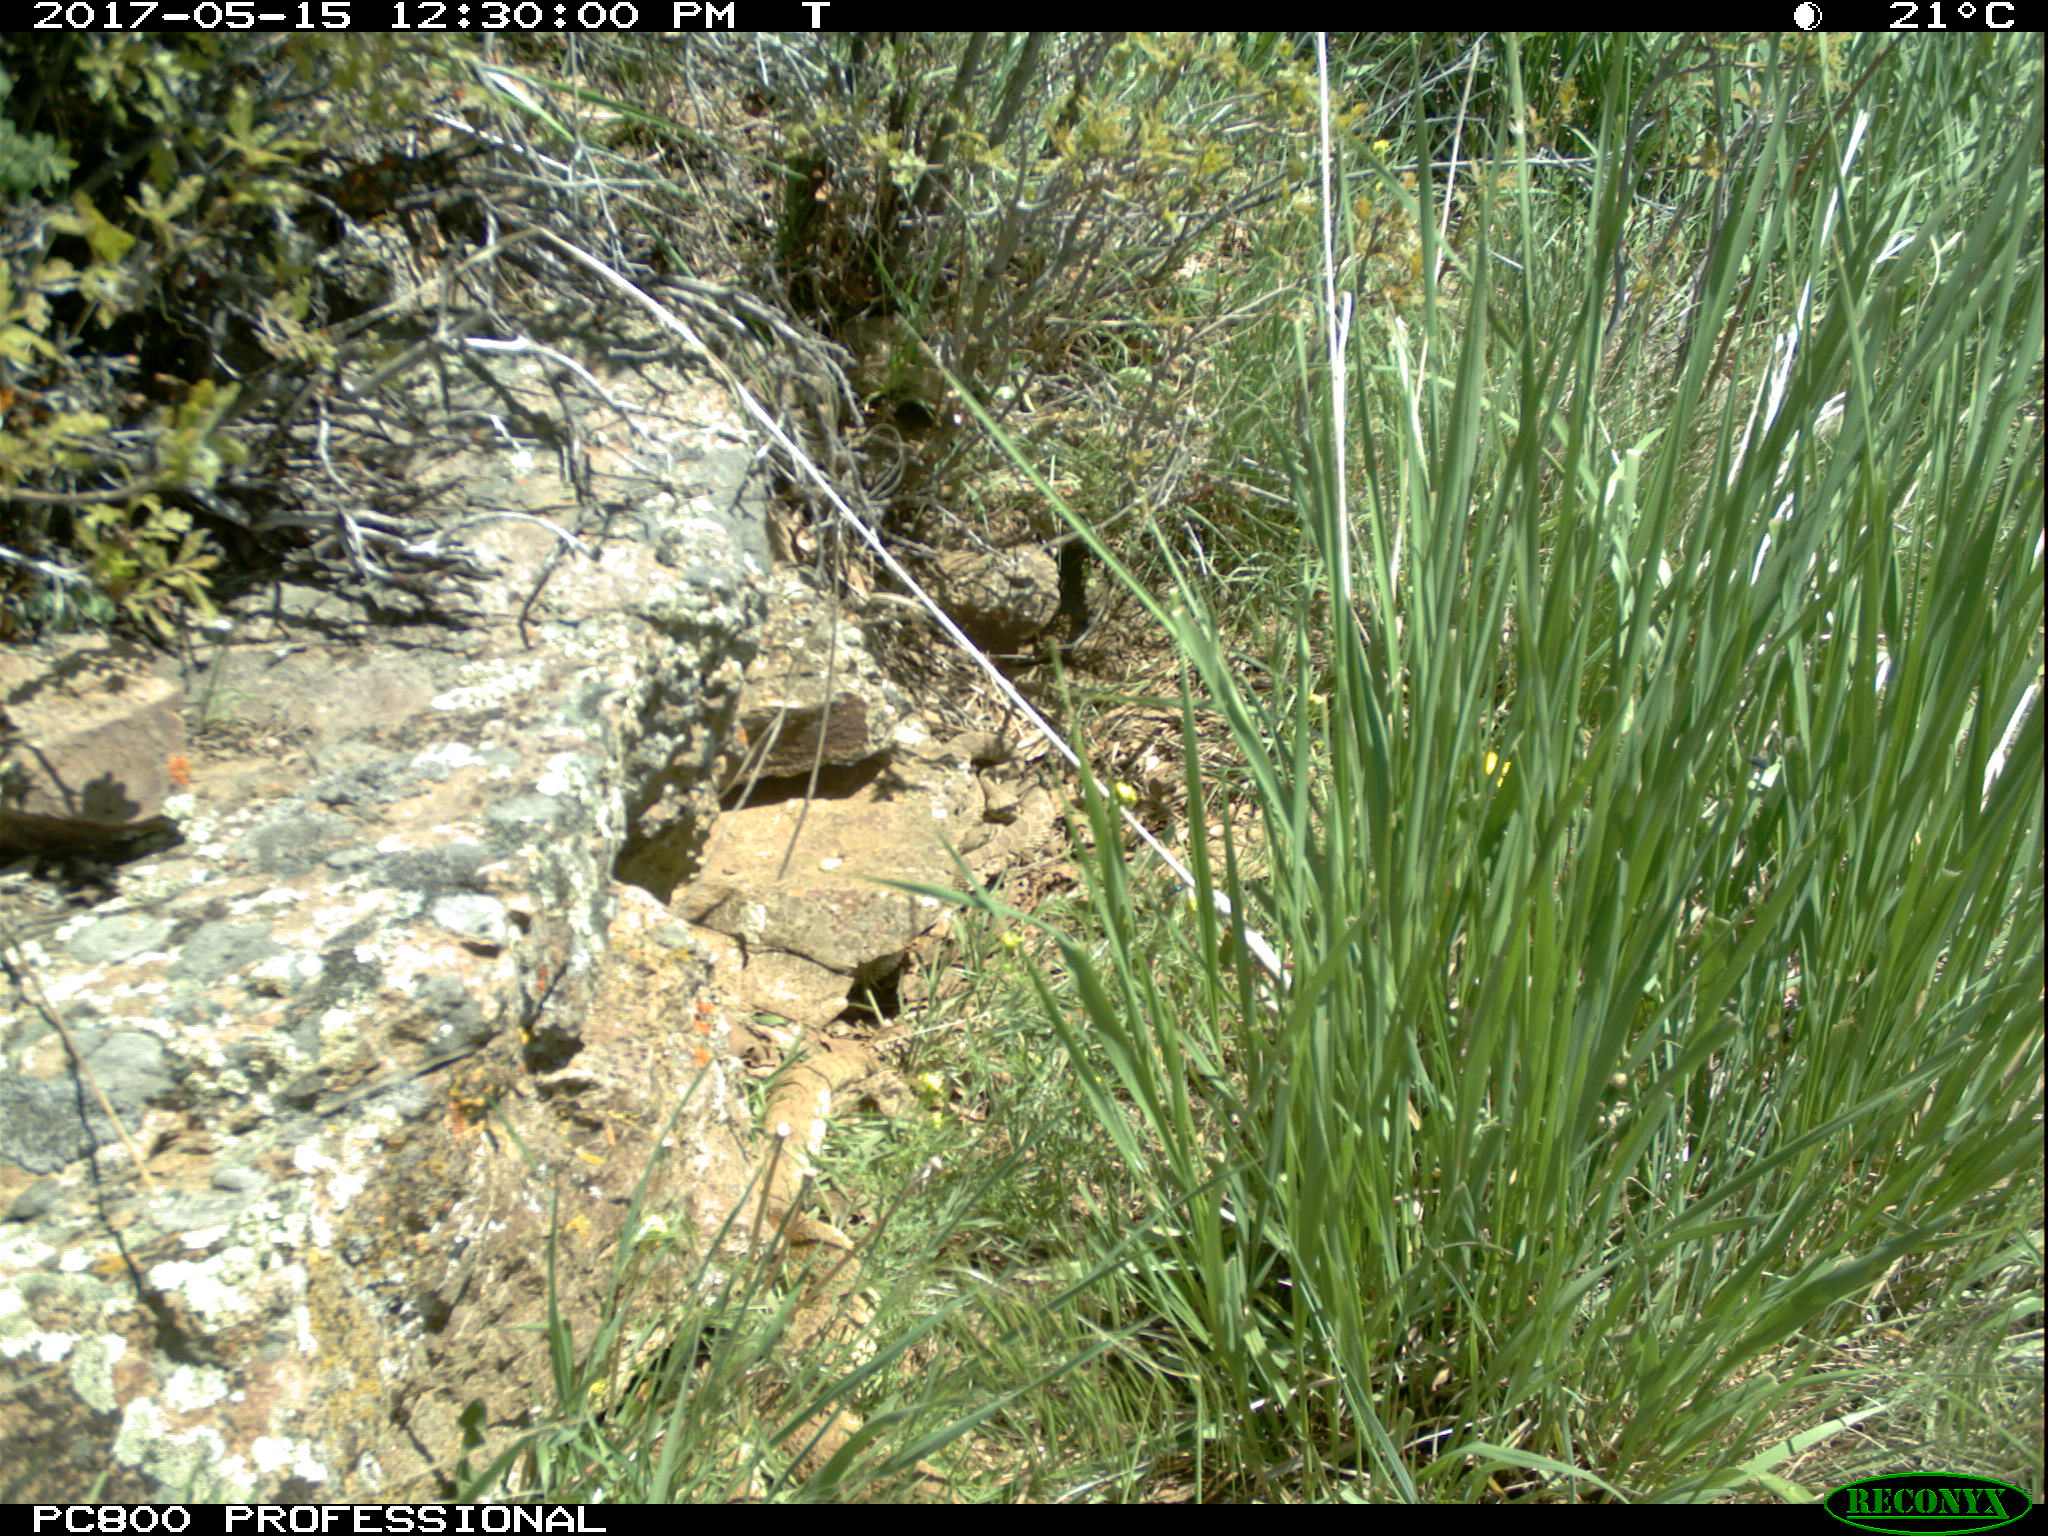snake: (761, 1052, 876, 1473), (948, 728, 1051, 887)
